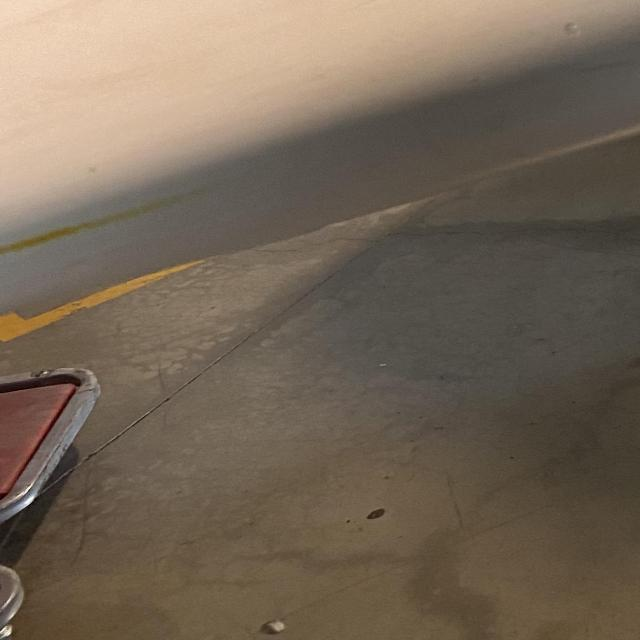Paint-off: (559, 19, 581, 38)
